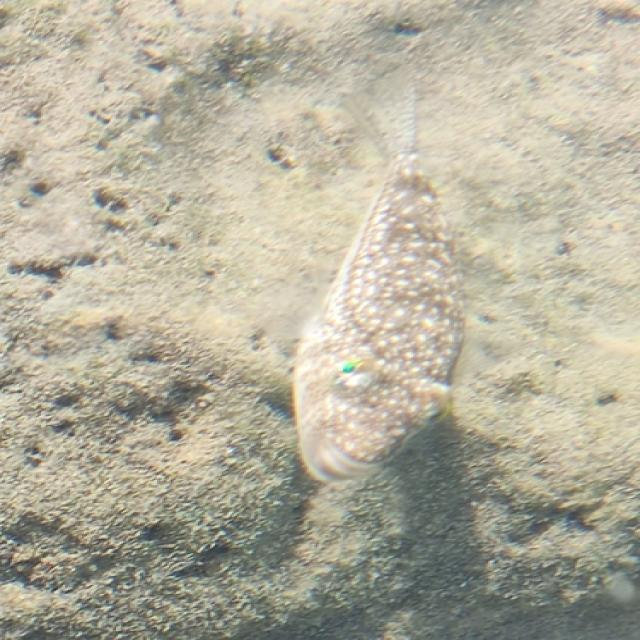Balik: (294, 152, 462, 481)
